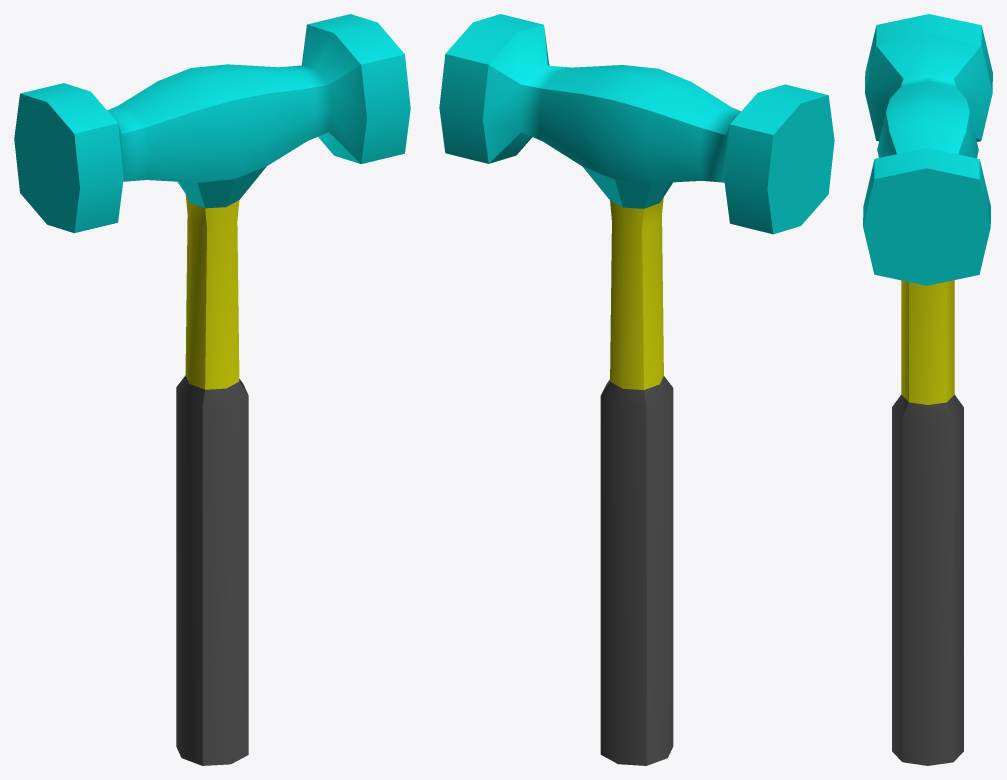
The model's file is HammerRemodel.fbx.
3 views of the same model, side by side, from view 1: azimuth 30°, elevation 25°; view 2: azimuth 150°, elevation 25°; view 3: azimuth 270°, elevation 25° (orthographic). The views are drawn at different scales.
Parts seen in each view (by area): view 1: HammerMesh; view 2: HammerMesh; view 3: HammerMesh.
Boxes of the visible parts, x1=… form: HammerMesh: x1=14, y1=14, x2=410, y2=765; HammerMesh: x1=439, y1=14, x2=834, y2=765; HammerMesh: x1=863, y1=14, x2=992, y2=765.
Bounding box in the file's own units: 8.98 × 17.89 × 3.19.
